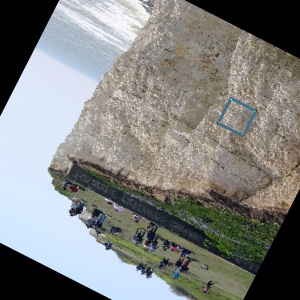square: (216, 97, 258, 138)
